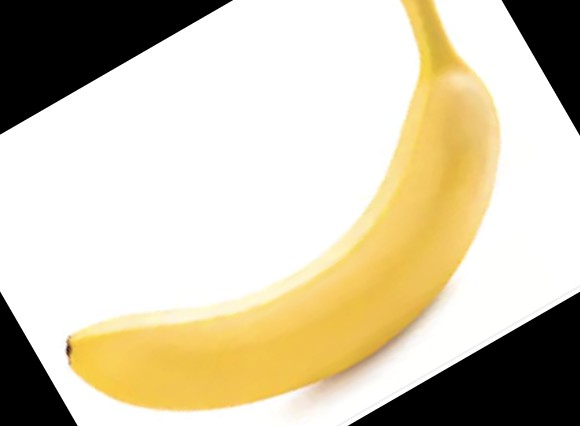fresh_banana: (65, 2, 501, 411)
